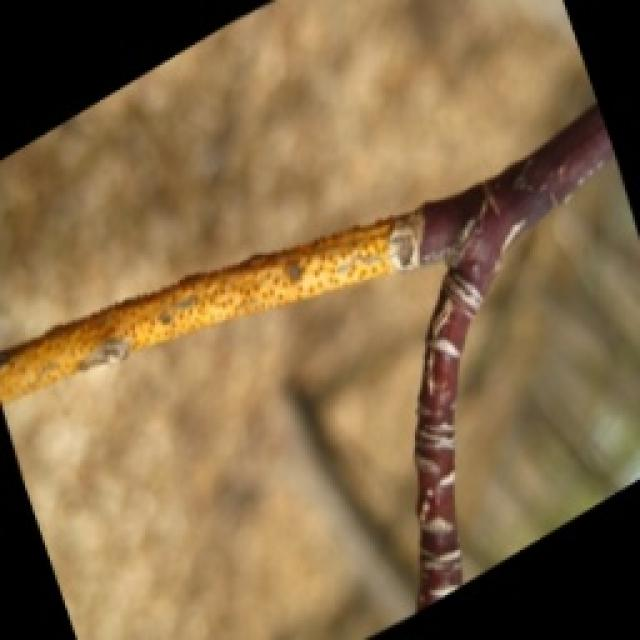Golden_canker: (0, 205, 425, 415)
